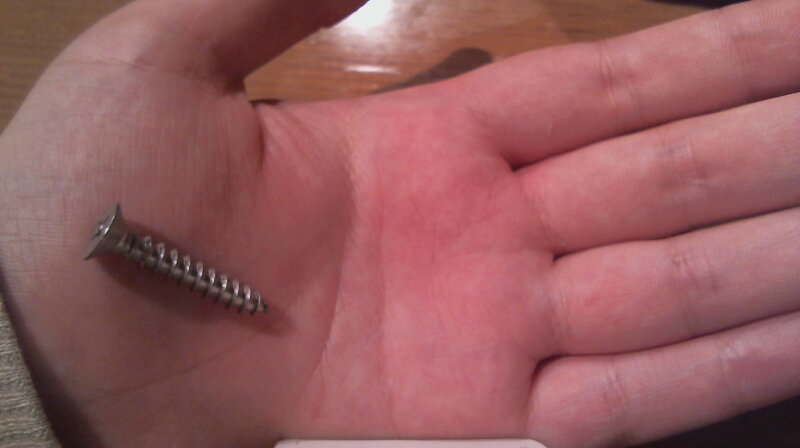S001: (77, 199, 275, 320)
